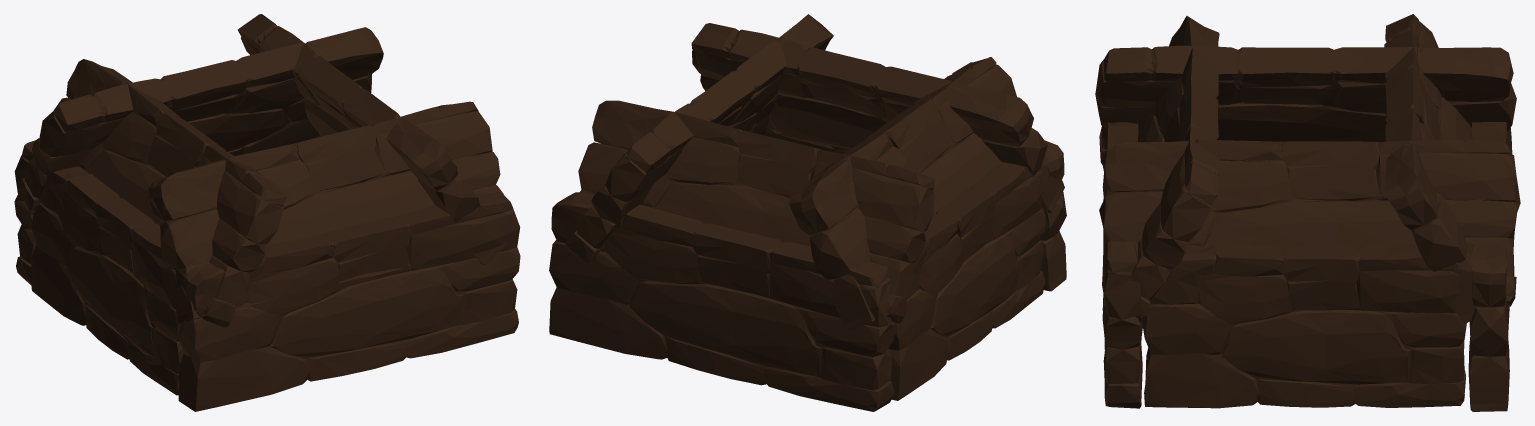
The model's file is Rock_Shell.glb.
3 renders of one model, left to right at view 1: azimuth 30°, elevation 25°; view 2: azimuth 150°, elevation 25°; view 3: azimuth 270°, elevation 25°, orthographic. The views are drawn at different scales.
Visible parts, largest first — view 1: ROCKWALL_MESH_2; view 2: ROCKWALL_MESH_2; view 3: ROCKWALL_MESH_2.
Boxes of the visible parts, x1,y1,x2,y2 form: ROCKWALL_MESH_2: (14, 14, 520, 411); ROCKWALL_MESH_2: (549, 14, 1066, 411); ROCKWALL_MESH_2: (1095, 14, 1520, 411).
Size of the model in its own units: 168 by 99.04 by 166.
